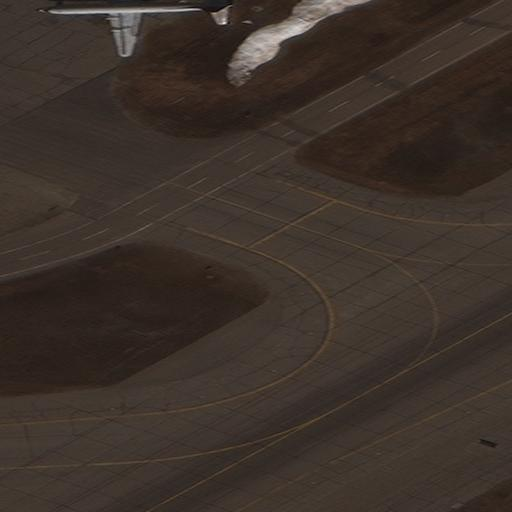Large Civil Transport: (38, 0, 231, 57)
